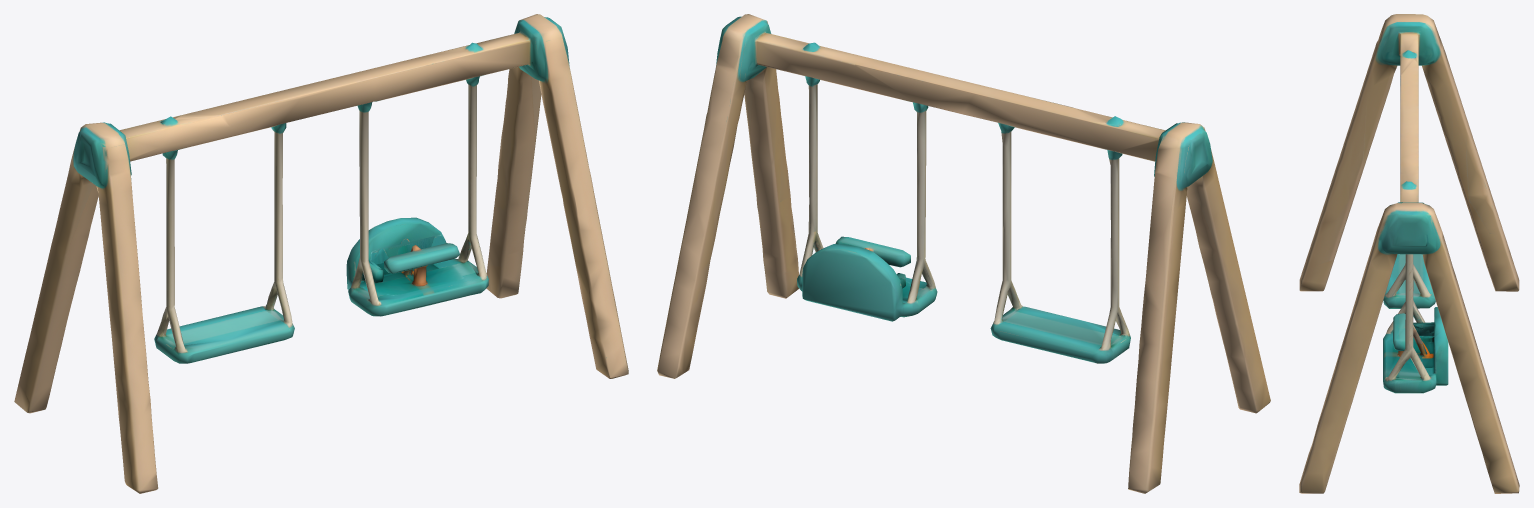
File: Meshy_AI_Swing_Set_Duo_0107222913_texture.fbx
3 views of the same model, side by side, from view 1: azimuth 30°, elevation 25°; view 2: azimuth 150°, elevation 25°; view 3: azimuth 270°, elevation 25° (orthographic). The views are drawn at different scales.
Visible parts, largest first — view 1: Mesh_0; view 2: Mesh_0; view 3: Mesh_0.
Part boxes in pixels (x1,y1,x2,y2): Mesh_0: (14, 14, 628, 493); Mesh_0: (657, 14, 1270, 493); Mesh_0: (1299, 14, 1519, 493).
Bounding box in the file's own units: 192 × 117 × 84.22.
1 material, 1 textured.
